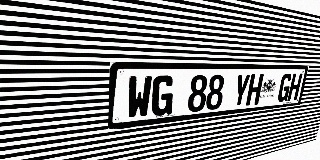8: (187, 75, 209, 113), (205, 75, 226, 111)
G: (150, 75, 175, 117), (276, 74, 293, 102)
H: (245, 74, 264, 106), (287, 73, 303, 101)
W: (126, 76, 153, 120)
Y: (231, 74, 251, 107)
